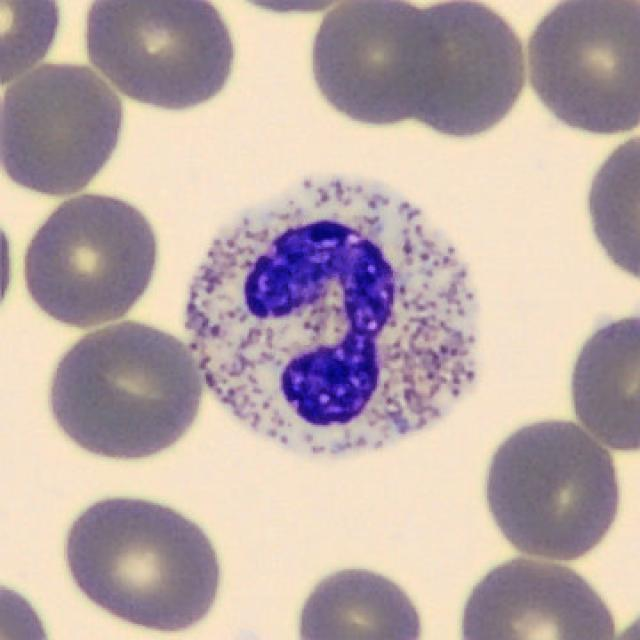Bastonete: (188, 180, 475, 453)
